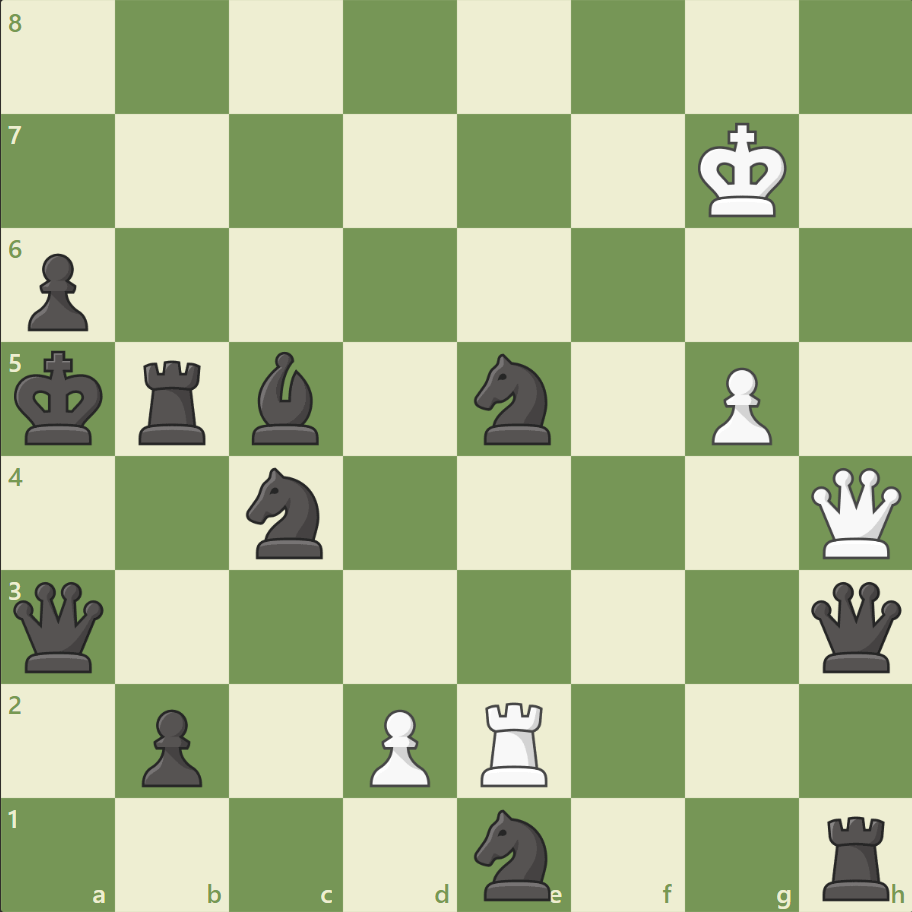K: (692, 117, 792, 225)
P: (701, 359, 776, 450), (361, 700, 435, 791)
Q: (805, 463, 904, 562)
R: (473, 693, 556, 790)
b: (244, 347, 328, 449)
k: (11, 344, 111, 452)
n: (238, 461, 335, 564), (465, 348, 562, 450), (465, 802, 562, 904)
p: (20, 246, 95, 337), (133, 700, 208, 791)
q: (10, 576, 109, 676), (805, 576, 904, 676)
r: (814, 806, 897, 904), (133, 352, 215, 449)
